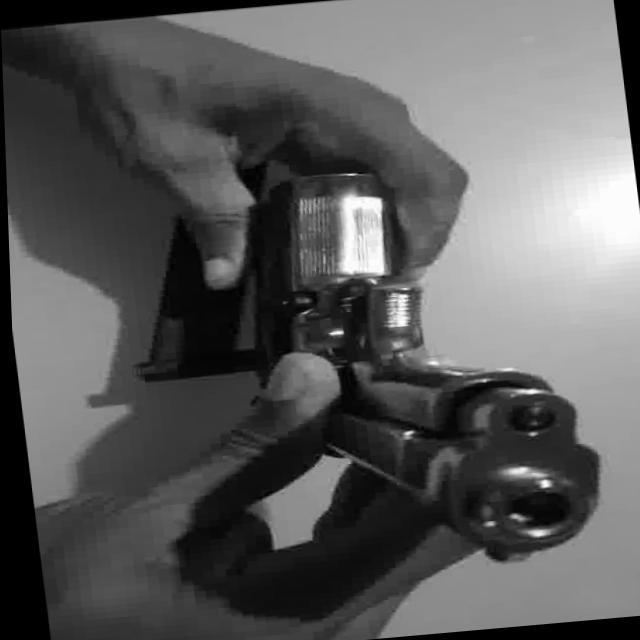weapon: (107, 150, 608, 594)
